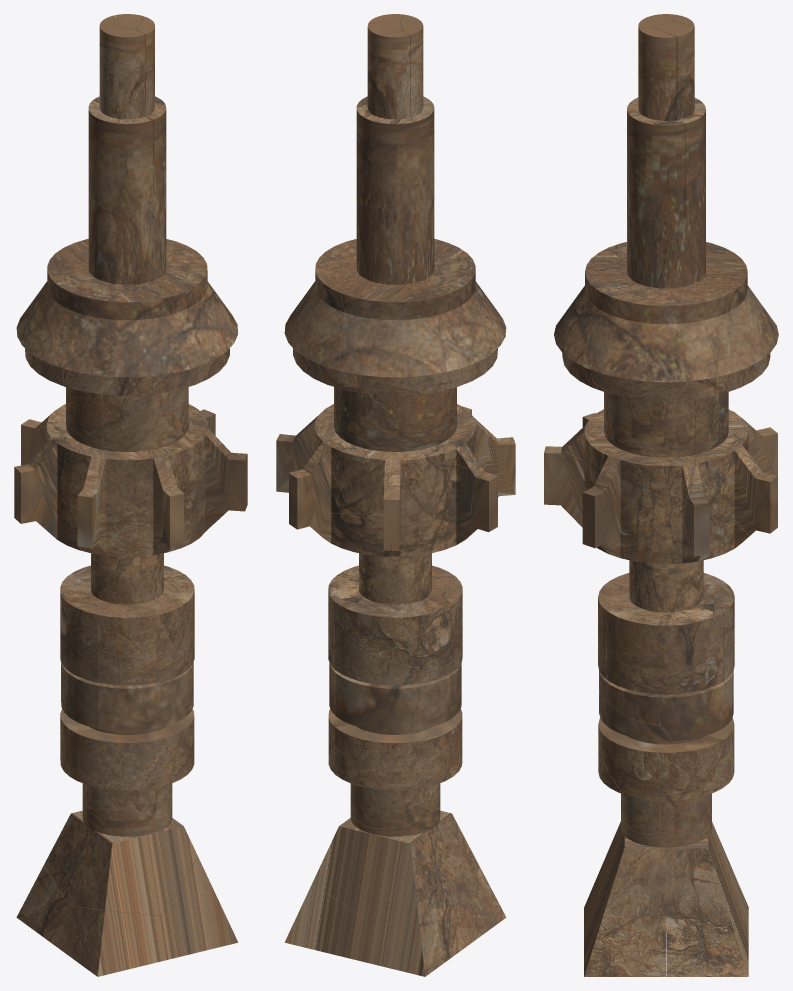
The model's file is totem roto.fbx.
The picture shows the model from 3 angles, left to right: view 1: azimuth 30°, elevation 25°; view 2: azimuth 150°, elevation 25°; view 3: azimuth 270°, elevation 25°; orthographic projection.
Parts seen in each view (by area): view 1: Cube_cell.006, Cube_cell.017, Cube_cell.010, Cube_cell.002, Cube_cell.001_cell.003, Cube_cell.020, Cube_cell.013, Cube_cell.001_cell.002, Cube_cell.019, Cube_cell.004, Cube_cell.007, Cube_cell.005 (+16 smaller); view 2: Cube_cell.009, Cube_cell.025, Cube_cell.012, Cube_cell.020, Cube_cell.018, Cube_cell.008, Cube_cell.010, Cube_cell.016, Cube_cell.022, Cube_cell.001_cell.005, Cube_cell.001_cell, Cube_cell.005 (+16 smaller); view 3: Cube_cell.015, Cube_cell.002, Cube_cell.027, Cube_cell.024, Cube_cell.001_cell.001, Cube_cell.014, Cube_cell.011, Cube_cell.028, Cube_cell.026, Cube_cell.001_cell.004, Cube_cell.029, Cube_cell.001_cell.006 (+16 smaller).
Boxes of the visible parts, x1,y1,x2,y2 form: Cube_cell.006: [88, 26, 152, 220]; Cube_cell.017: [77, 471, 226, 601]; Cube_cell.010: [31, 193, 151, 344]; Cube_cell.002: [116, 354, 247, 511]; Cube_cell.001_cell.003: [69, 824, 197, 915]; Cube_cell.020: [14, 457, 131, 606]; Cube_cell.013: [131, 288, 232, 394]; Cube_cell.001_cell.002: [57, 905, 167, 976]; Cube_cell.019: [70, 271, 183, 420]; Cube_cell.004: [97, 602, 145, 731]; Cube_cell.007: [129, 589, 184, 720]; Cube_cell.005: [19, 328, 102, 467]; Cube_cell.009: [321, 387, 441, 544]; Cube_cell.025: [335, 616, 419, 772]; Cube_cell.012: [338, 203, 416, 371]; Cube_cell.020: [391, 440, 497, 600]; Cube_cell.018: [331, 709, 462, 828]; Cube_cell.008: [330, 571, 456, 666]; Cube_cell.010: [405, 197, 492, 344]; Cube_cell.016: [333, 320, 469, 414]; Cube_cell.022: [369, 30, 415, 209]; Cube_cell.001_cell.005: [362, 829, 453, 915]; Cube_cell.001_cell: [355, 906, 465, 976]; Cube_cell.005: [394, 318, 504, 470]; Cube_cell.015: [583, 213, 718, 400]; Cube_cell.002: [564, 382, 695, 549]; Cube_cell.027: [627, 27, 684, 219]; Cube_cell.024: [660, 610, 722, 780]; Cube_cell.001_cell.001: [614, 834, 734, 931]; Cube_cell.014: [598, 699, 721, 800]; Cube_cell.011: [685, 217, 778, 395]; Cube_cell.028: [683, 452, 777, 556]; Cube_cell.026: [606, 595, 662, 725]; Cube_cell.001_cell.004: [584, 882, 666, 976]; Cube_cell.029: [624, 520, 754, 610]; Cube_cell.001_cell.006: [666, 903, 748, 976].
Bounding box in the file's own units: 191 × 798 × 185.
